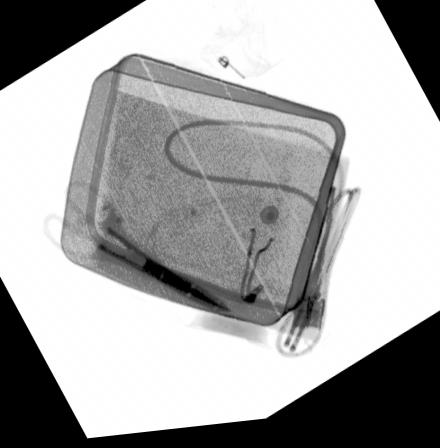Scissors: (46, 179, 231, 316)
